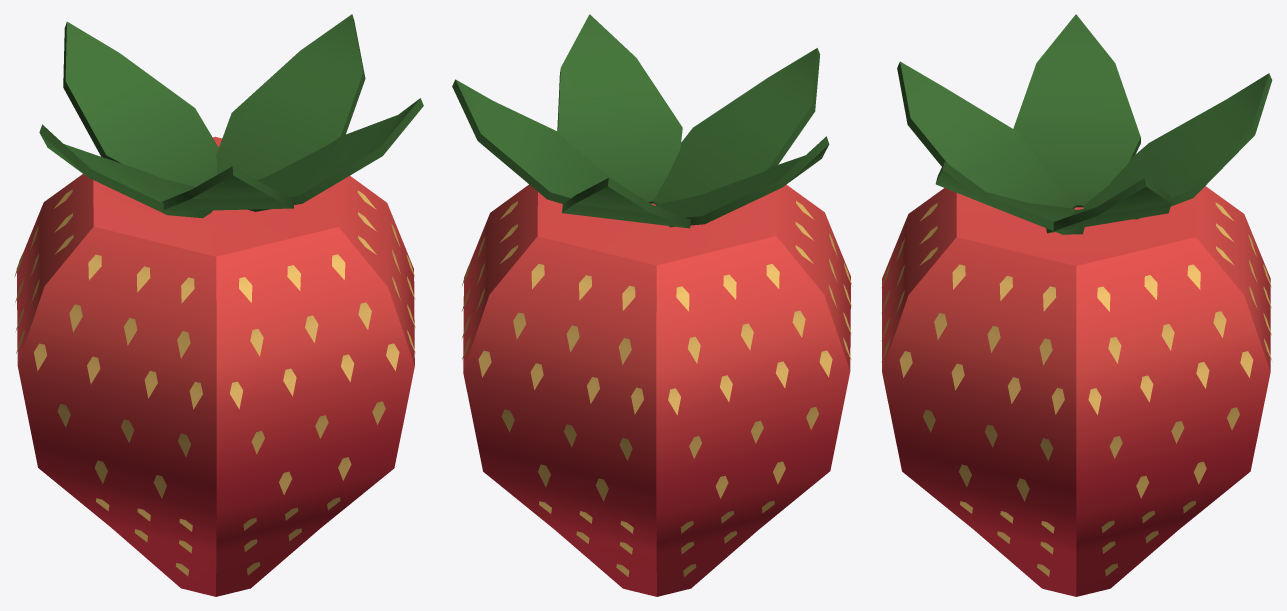
The model's file is strawberry.fbx.
3 renders of one model, left to right at view 1: azimuth 30°, elevation 25°; view 2: azimuth 150°, elevation 25°; view 3: azimuth 270°, elevation 25°, orthographic. The views are drawn at different scales.
Visible parts, largest first — view 1: polySurface2233; view 2: polySurface2233; view 3: polySurface2233.
Boxes of the visible parts, x1,y1,x2,y2 form: polySurface2233: (14,14,423,596); polySurface2233: (452,14,852,596); polySurface2233: (881,14,1272,596).
Size of the model in its own units: 0.5793 by 0.6956 by 0.5098.
Materials: 1 (1 with a texture image).
